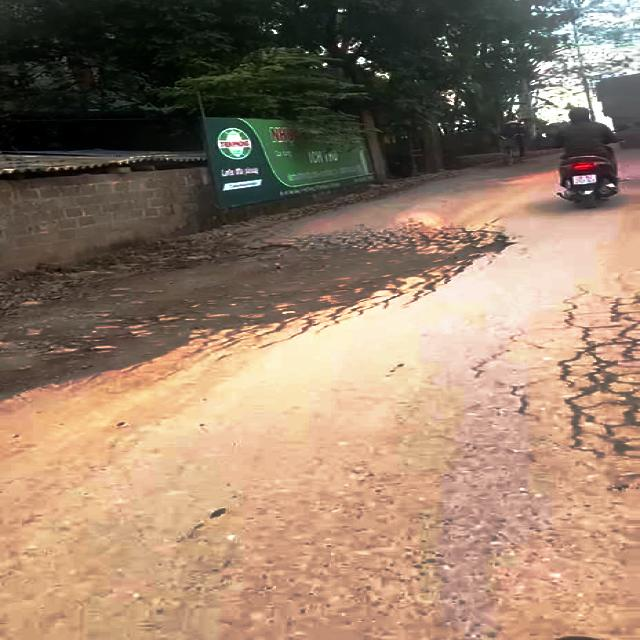pothole: (0, 231, 502, 352)
